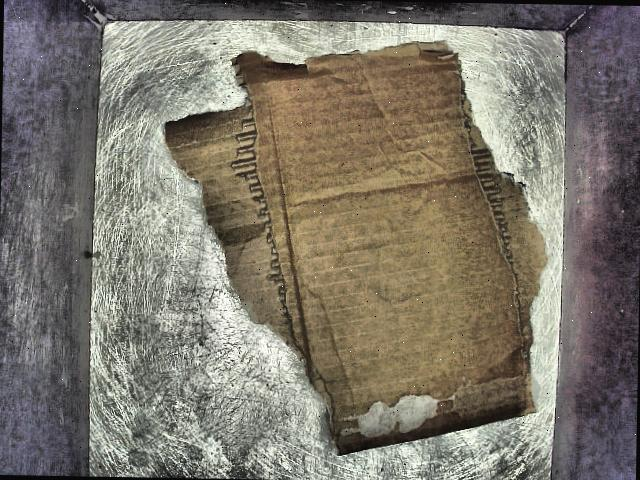Paper: (160, 28, 554, 470)
